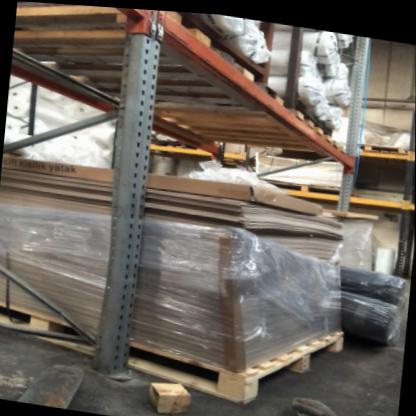vertical_damage: (88, 336, 149, 388)
